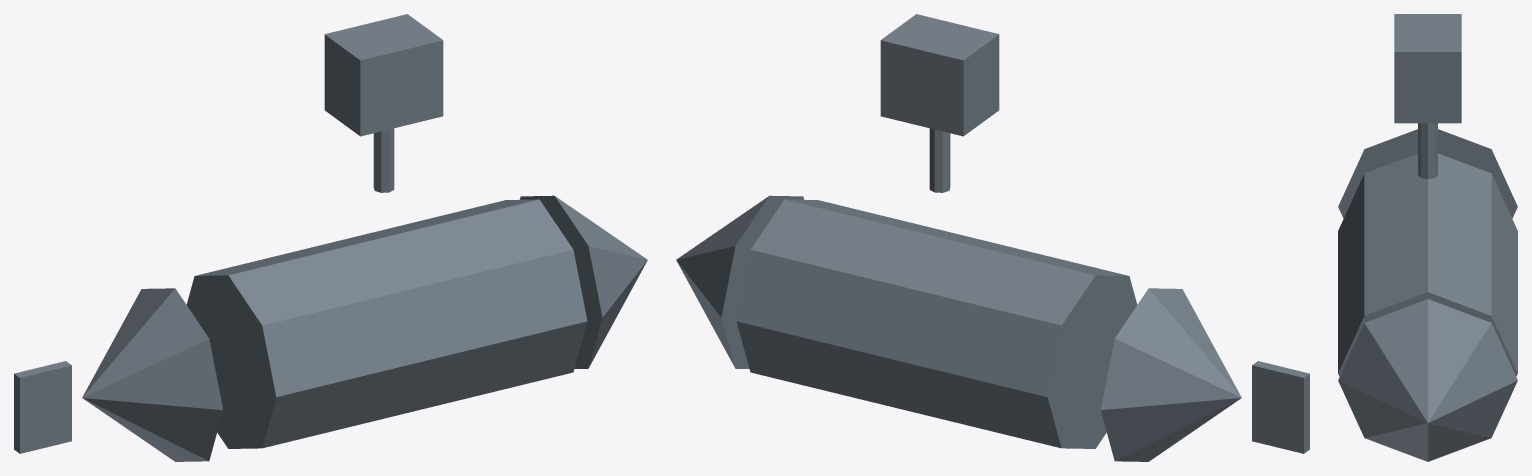
3 renders of one model, left to right at view 1: azimuth 30°, elevation 25°; view 2: azimuth 150°, elevation 25°; view 3: azimuth 270°, elevation 25°, orthographic. The views are drawn at different scales.
Visible parts, largest first — view 1: part0, part2, part3, part1, part5, part4; view 2: part0, part2, part3, part1, part5, part4; view 3: part0, part1, part3, part2, part4.
Part boxes in pixels (bbox=[...]): part0: bbox=[186, 199, 587, 448]; part2: bbox=[82, 288, 223, 461]; part3: bbox=[324, 14, 443, 136]; part1: bbox=[520, 195, 647, 368]; part5: bbox=[14, 361, 71, 453]; part4: bbox=[373, 128, 394, 192]; part0: bbox=[736, 199, 1137, 448]; part2: bbox=[1100, 288, 1241, 461]; part3: bbox=[880, 14, 999, 136]; part1: bbox=[676, 195, 803, 368]; part5: bbox=[1252, 361, 1309, 453]; part4: bbox=[929, 128, 950, 192]; part0: bbox=[1338, 153, 1517, 376]; part1: bbox=[1338, 299, 1517, 461]; part3: bbox=[1394, 14, 1461, 123]; part2: bbox=[1338, 129, 1517, 218]; part4: bbox=[1418, 123, 1437, 179].
Size of the model in its own units: 6.08 by 3.44 by 1.6.
